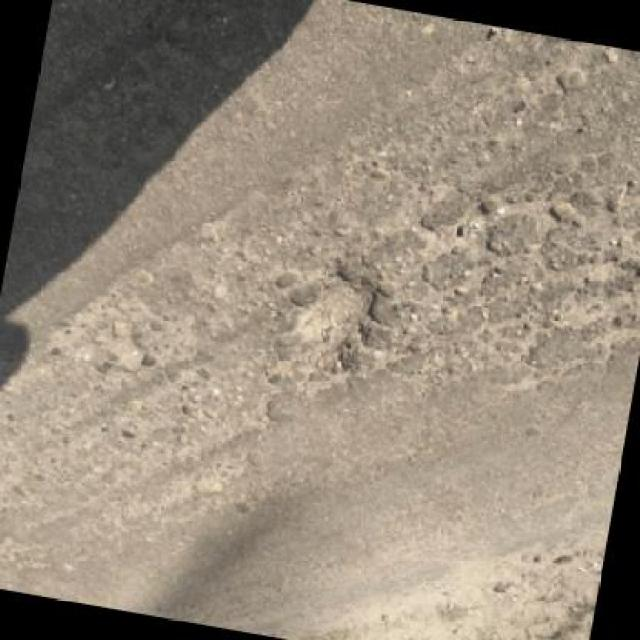pothole1: (291, 264, 386, 371)
